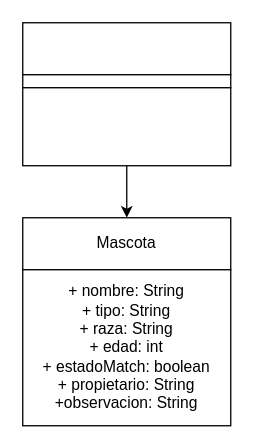
Image size: 253x448. Some labels were removed from this diagram. Each missing label, with the box of its shape:
+ menu(): int + registrarMascota() + mostrarMascota() + establecerMatch(): (21, 86, 231, 166)
TinderPet: (21, 21, 231, 75)
